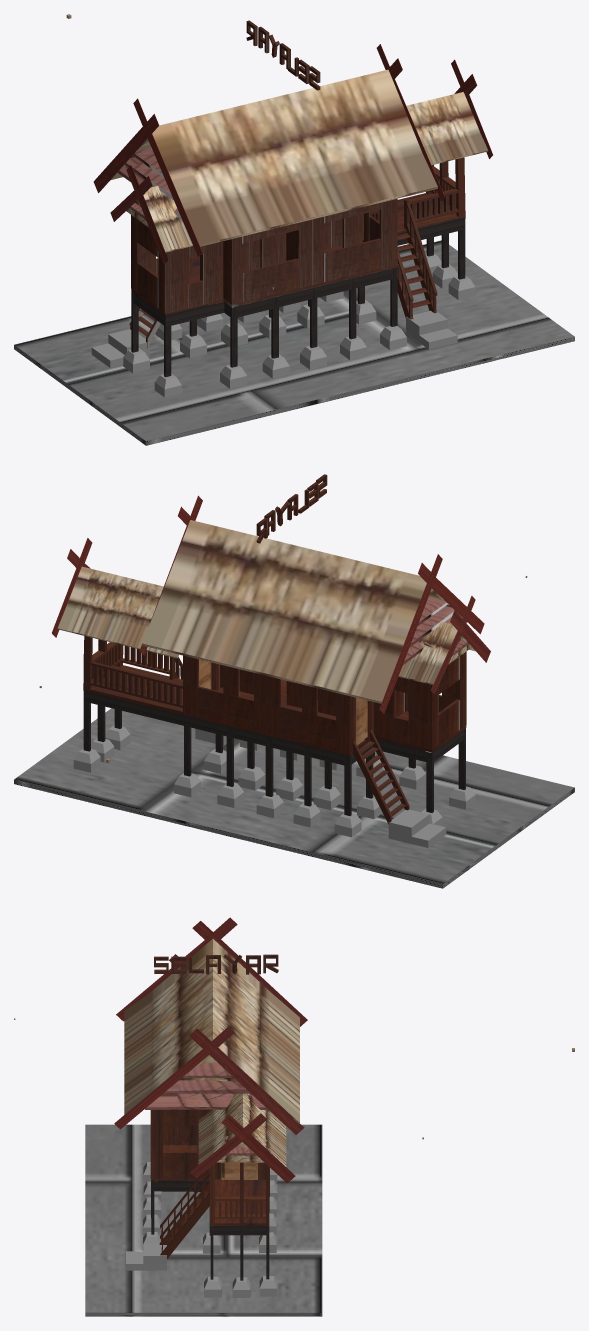
The model's file is Rumah Adat Selayar - Copy.glb.
The picture shows the model from 3 angles, top to bottom: view 1: azimuth 30°, elevation 25°; view 2: azimuth 150°, elevation 25°; view 3: azimuth 270°, elevation 25°; orthographic projection. The views are drawn at different scales.
Visible parts, largest first — view 1: Cube.135, Cube.056, Cube.102, Cube.161, Cube.063, Cube.160, Cube.164, Cube.003, Cube.019, Cube.136, Cube.044, Cube.047 (+14 smaller); view 2: Cube.135, Cube.056, Cube.161, Cube.063, Cube.102, Cube.164, Cube.160, Cube.024, Cube.029, Cube.137, Cube.051, Cube.174 (+21 smaller); view 3: Cube.135, Cube.056, Cube.161, Cube.163, Cube.063, Cube.171, Cube.160, Cube.077, Cube.169, Cube.102, Cube.080, Cube.033 (+7 smaller).
Part boxes in pixels (x1,y1,x2,y2): Cube.135: (14,240,574,445); Cube.056: (66,14,437,246); Cube.102: (132,217,465,326); Cube.161: (406,92,488,164); Cube.063: (397,157,465,319); Cube.160: (93,98,202,256); Cube.164: (126,186,273,289); Cube.003: (323,238,380,282); Cube.019: (243,258,298,301); Cube.136: (406,310,457,349); Cube.044: (201,241,223,304); Cube.047: (168,247,188,312); Cube.135: (14,708,574,888); Cube.056: (106,520,462,763); Cube.161: (39,566,178,687); Cube.063: (83,637,431,752); Cube.102: (83,691,464,765); Cube.164: (398,576,527,684); Cube.160: (379,554,484,713); Cube.024: (197,686,253,730); Cube.029: (279,705,335,749); Cube.137: (388,809,446,847); Cube.051: (408,679,428,749); Cube.174: (430,596,490,694); Cube.135: (85,1124,322,1316); Cube.056: (124,939,574,1123); Cube.161: (198,1093,423,1166); Cube.163: (114,1026,304,1134); Cube.063: (174,1167,269,1225); Cube.171: (190,1113,295,1183); Cube.160: (116,917,307,1026); Cube.077: (145,1093,268,1109); Cube.169: (159,1180,210,1258); Cube.102: (151,1179,266,1235); Cube.080: (163,1080,250,1093); Cube.033: (162,1151,197,1179).
Bounding box in the file's own units: 300 × 198 × 379.
Materials: 122 (120 with a texture image).
